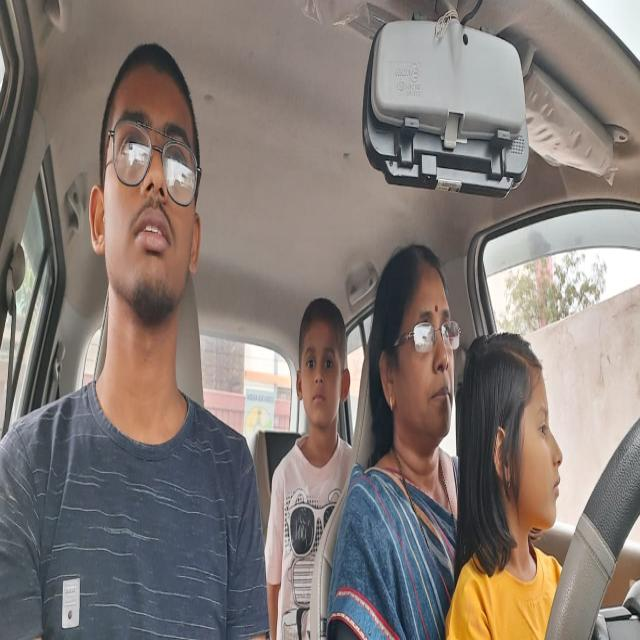child: (459, 326, 564, 542)
person: (84, 37, 210, 323), (366, 243, 462, 460), (291, 288, 354, 436)
